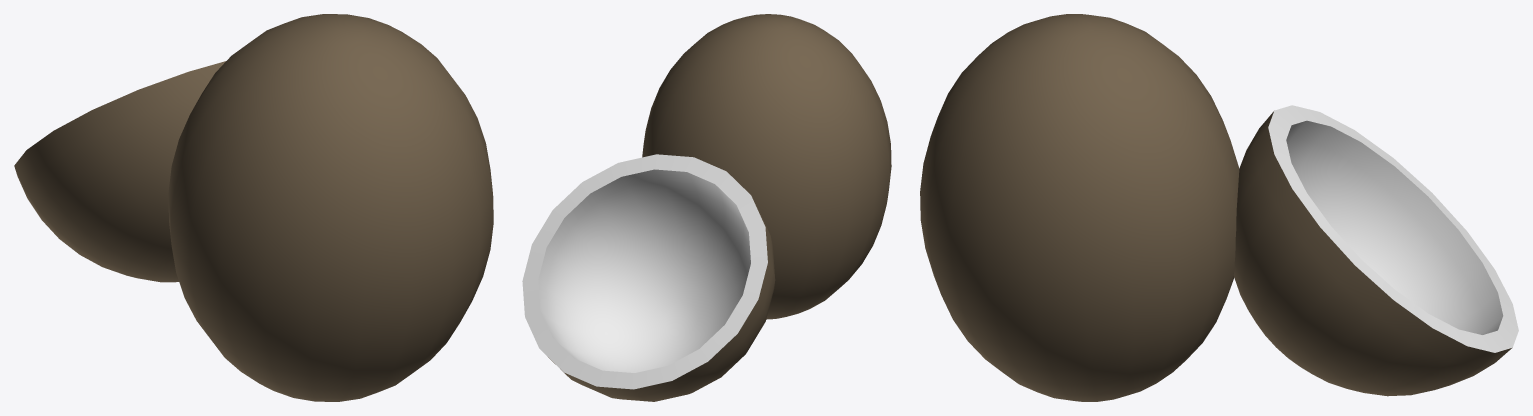
File: Coconut nut.fbx
The picture shows the model from 3 angles, left to right: view 1: azimuth 30°, elevation 25°; view 2: azimuth 150°, elevation 25°; view 3: azimuth 270°, elevation 25°; orthographic projection. The views are drawn at different scales.
Parts seen in each view (by area): view 1: pSphere2, pSphere1; view 2: pSphere1, pSphere2; view 3: pSphere2, pSphere1.
Boxes of the visible parts, x1,y1,x2,y2 form: pSphere2: (168, 14, 493, 401); pSphere1: (14, 61, 225, 282); pSphere1: (522, 154, 775, 401); pSphere2: (642, 14, 891, 319); pSphere2: (920, 14, 1239, 401); pSphere1: (1233, 105, 1518, 396).
Bounding box in the file's own units: 4.75 × 5.66 × 8.45.
